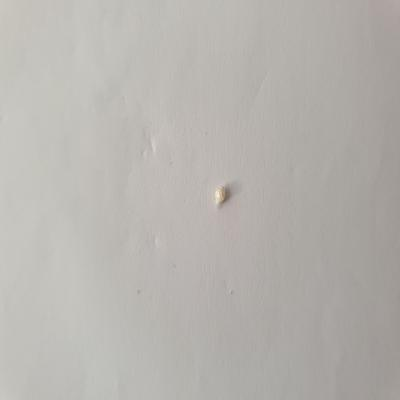plastic: (212, 182, 233, 207)
